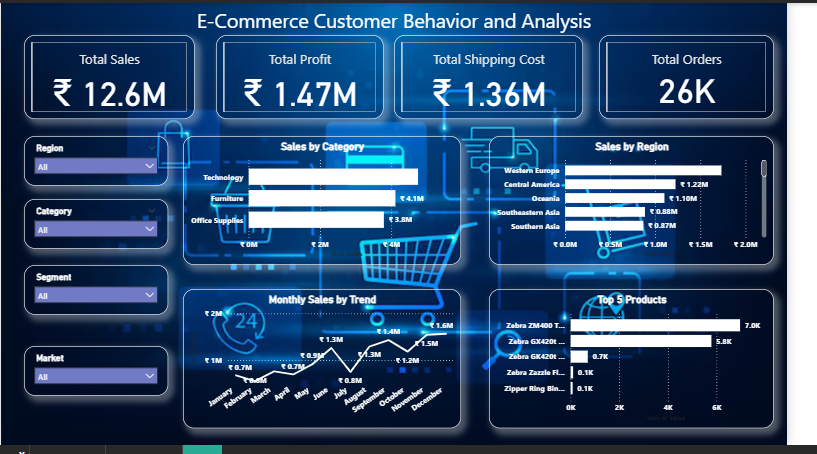

The page's visual inventory and layout, read from the dashboard file:
{"tool":"powerbi","page":{"name":"Page 1","canvas":[1280,720],"ordinal":0},"visuals":[{"type":"textbox","box":[0,0,1280,75.7],"z":0},{"type":"cardVisual","fields":{"Data":["Orders.Total Sales"]},"box":[37.3,52.5,278,137.3],"z":1000},{"type":"cardVisual","fields":{"Data":["Orders.Total Profit"]},"box":[350.9,52.5,272.9,137.3],"z":2000},{"type":"cardVisual","fields":{"Data":["Orders.Total Orders"]},"box":[974.6,52.5,284.8,137.3],"z":3000},{"type":"cardVisual","fields":{"Data":["Orders.Total Shipping Cost"]},"box":[640.7,52.5,308.5,137.3],"z":4000},{"type":"clusteredBarChart","title":"Sales by Category","fields":{"Category":["Orders.Category"],"Y":["Orders.Total Sales"]},"box":[296.6,216.9,452.5,210.2],"z":5000},{"type":"clusteredBarChart","title":"Sales by Region","fields":{"Y":["Orders.Total Sales"],"Category":["Orders.Region"]},"box":[794.9,216.9,464.4,210.2],"z":6000},{"type":"clusteredBarChart","title":"Top 5 Products","fields":{"Y":["Sum(Orders.Sales)"],"Category":["Orders.Product Name"]},"box":[794.9,466.1,464.4,227.1],"z":7000},{"type":"lineChart","title":"Monthly Sales by Trend","fields":{"Y":["Orders.Total Sales"],"Category":["Orders.Order Date.Variation.Date Hierarchy.Month"]},"box":[296.6,466.1,452.5,227.1],"z":8000},{"type":"slicer","fields":{"Values":["Orders.Region"]},"box":[37.5,216.7,234.6,81.5],"z":9000},{"type":"slicer","fields":{"Values":["Orders.Category"]},"box":[37.5,319.3,234.6,81.5],"z":10000},{"type":"slicer","fields":{"Values":["Orders.Segment"]},"box":[37.5,426.8,234.6,81.5],"z":11000},{"type":"slicer","fields":{"Values":["Orders.Market"]},"box":[37.5,558.7,234.6,81.5],"z":12000}]}

Visuals, with their boxes in screenshot pixels (x1, y1, x2, y2), scaled from the page's 1280x720 canvas onto the 817x454 screenshot:
textbox: 0/0/816/48
cardVisual - Orders.Total Sales: 24/33/201/120
cardVisual - Orders.Total Profit: 224/33/398/120
cardVisual - Orders.Total Orders: 622/33/804/120
cardVisual - Orders.Total Shipping Cost: 409/33/606/120
"Sales by Category" clusteredBarChart: 189/137/478/269
"Sales by Region" clusteredBarChart: 507/137/804/269
"Top 5 Products" clusteredBarChart: 507/294/804/437
"Monthly Sales by Trend" lineChart: 189/294/478/437
slicer - Orders.Region: 24/137/174/188
slicer - Orders.Category: 24/201/174/253
slicer - Orders.Segment: 24/269/174/321
slicer - Orders.Market: 24/352/174/404
